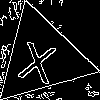X: (16, 32, 61, 84)
